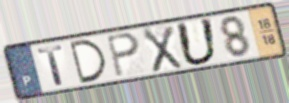8: (217, 14, 253, 59)
D: (67, 37, 109, 85)
P: (104, 31, 143, 79)
T: (35, 43, 67, 88)
U: (174, 16, 220, 67)
X: (140, 24, 184, 74)
